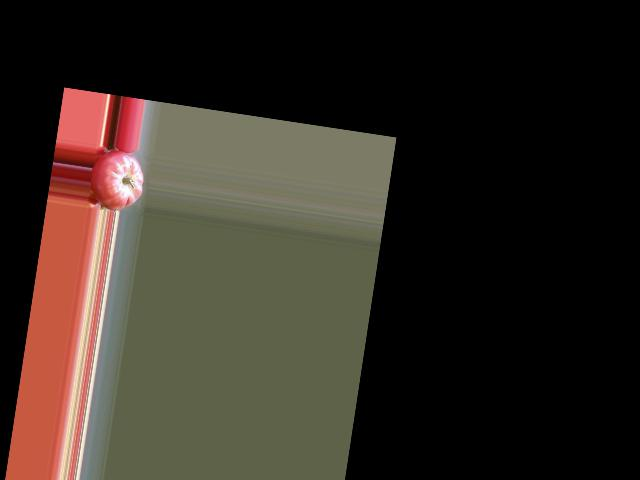tomato: (86, 147, 147, 214)
